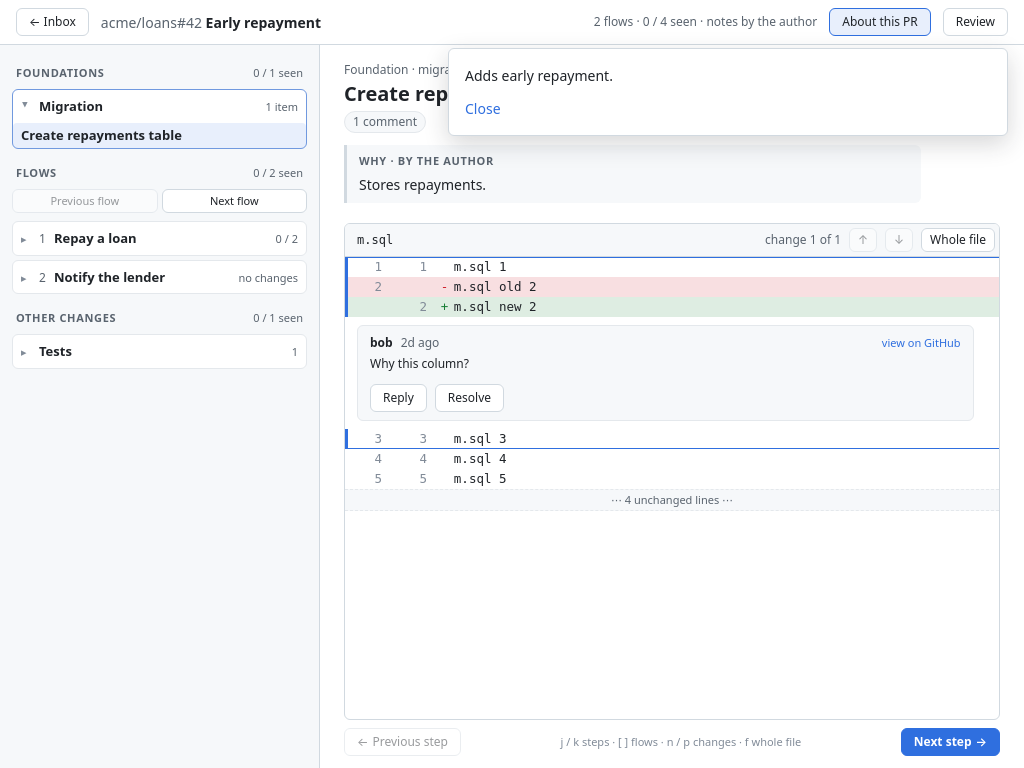
Scenario: typed text across moves › a reply keeps its text after j and k
Expected: the text "m.sql new 2" is shown, left=454, top=298, right=537, bottom=314
Click the button "Reply".
click(398, 398)  # box left=370, top=384, right=427, bottom=412
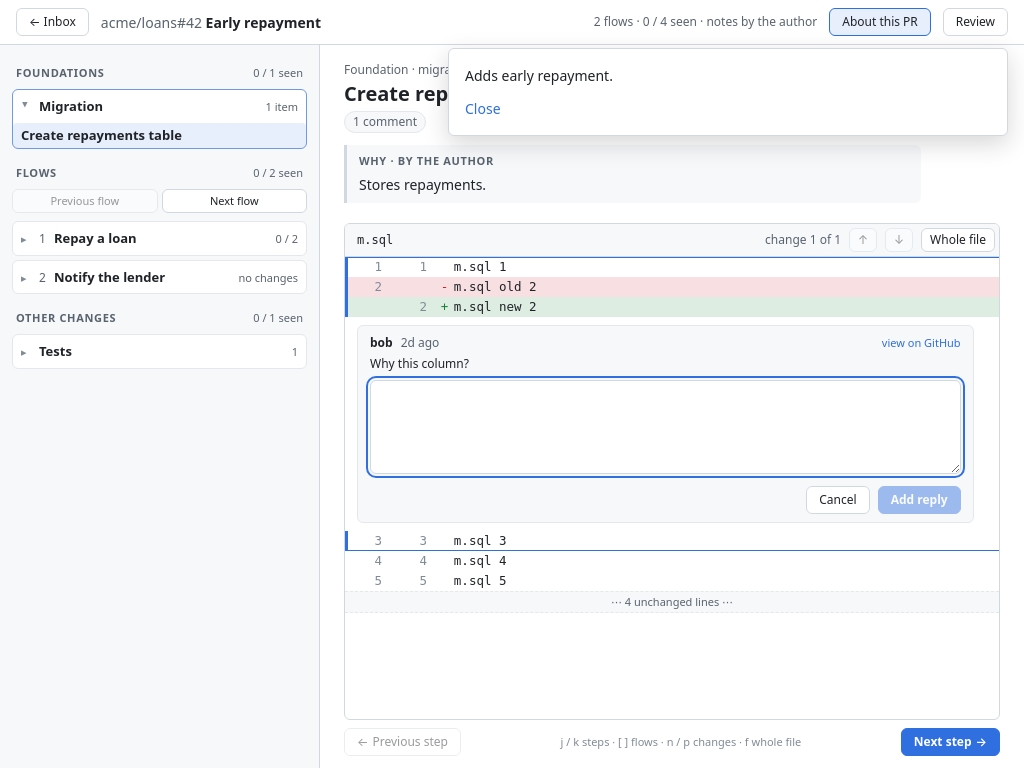
Type "Because of fees" into the text box named "Comment on m.sql".
click(665, 426); type("Because of fees")  # box left=370, top=380, right=961, bottom=474
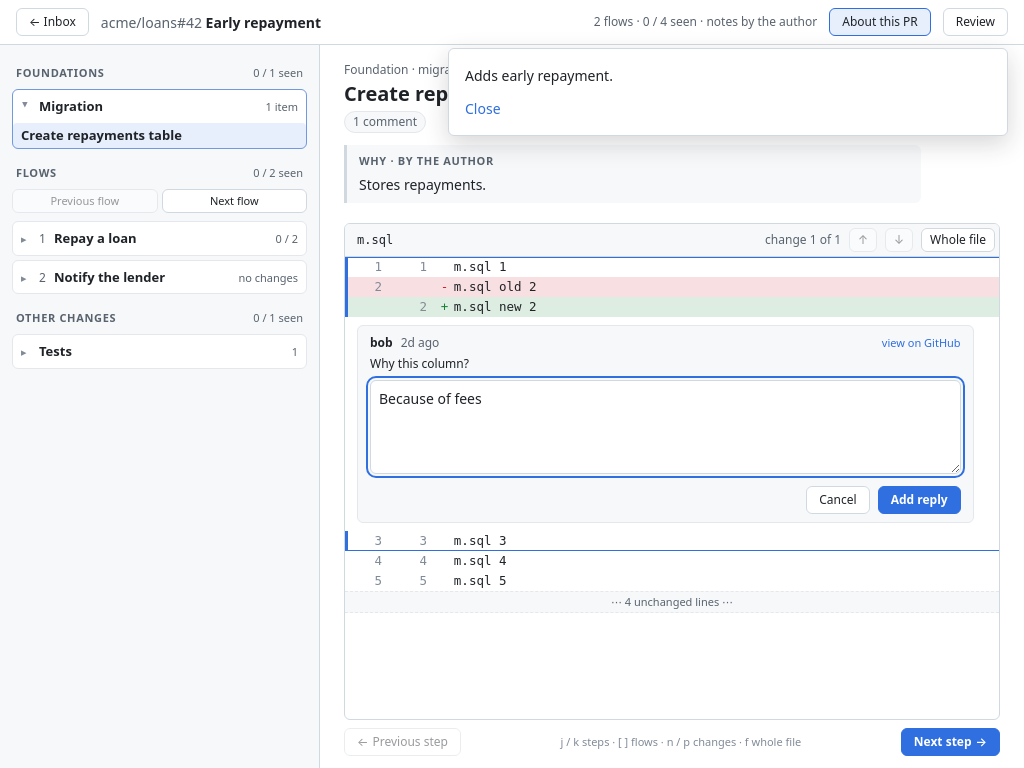
Press j
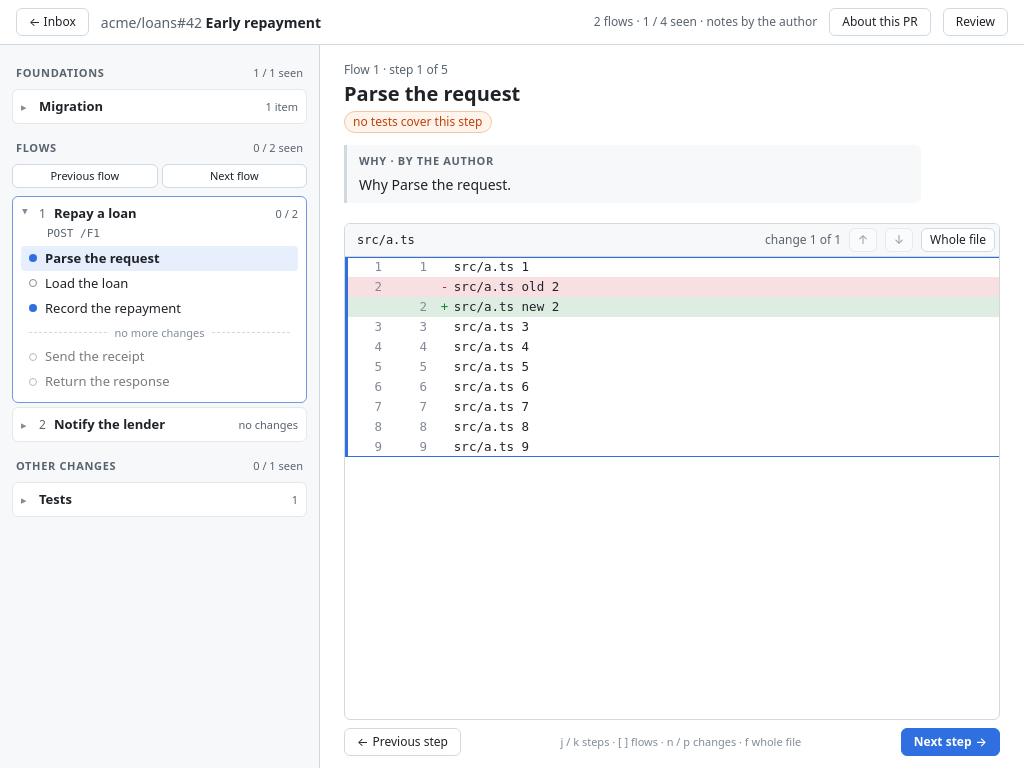
Now the text "src/a.ts new 2" is shown, box left=454, top=298, right=559, bottom=314
Now the text "m.sql new 2" is gone
Press k
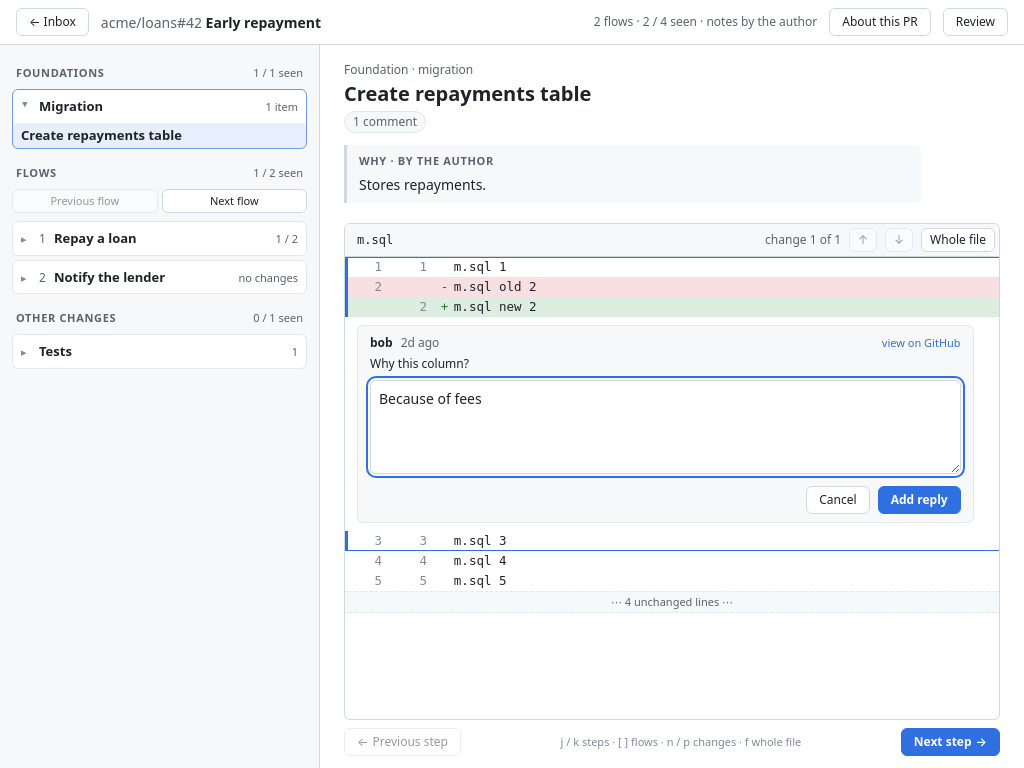
Now the text "m.sql new 2" is shown, box left=454, top=298, right=537, bottom=314
Now the text box holds "Because of fees", box left=370, top=380, right=961, bottom=474
